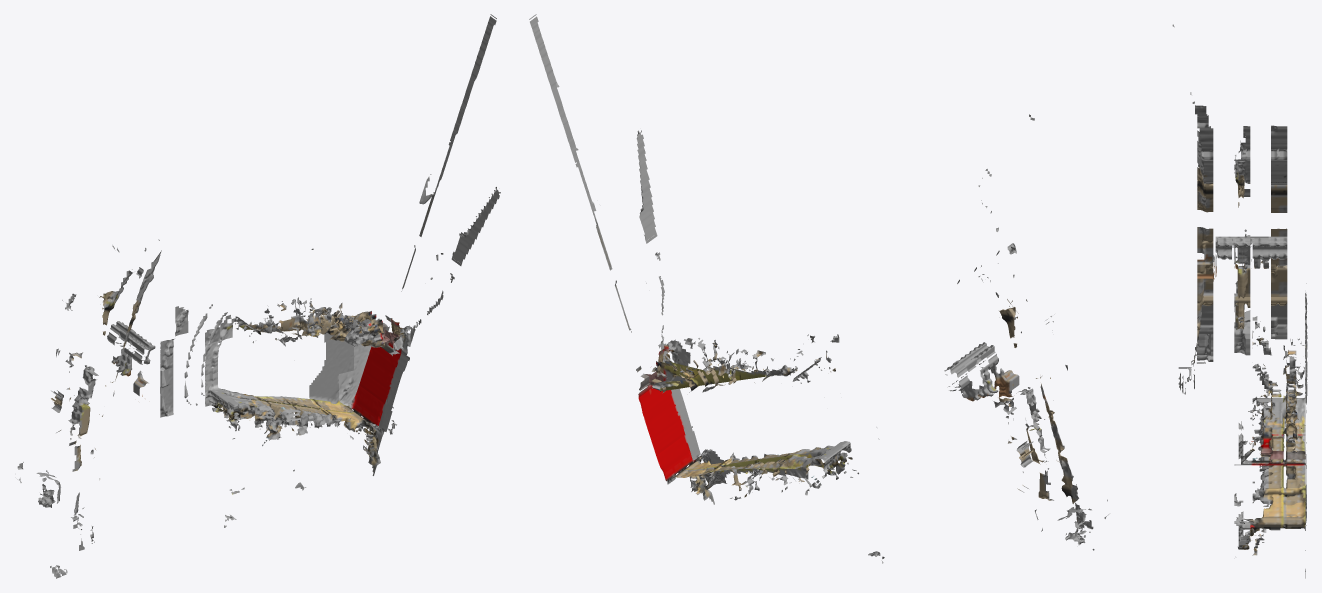
File: semantic_mesh.glb
3 views of the same model, side by side, from view 1: azimuth 30°, elevation 25°; view 2: azimuth 150°, elevation 25°; view 3: azimuth 270°, elevation 25° (orthographic). The views are drawn at different scales.
Visible parts, largest first — view 1: tmpe9ctn9fw.ply; view 2: tmpe9ctn9fw.ply; view 3: tmpe9ctn9fw.ply.
Part boxes in pixels (x1,y1,x2,y2): tmpe9ctn9fw.ply: [17, 14, 500, 578]; tmpe9ctn9fw.ply: [529, 14, 1108, 563]; tmpe9ctn9fw.ply: [1172, 24, 1307, 578].
Size of the model in its own units: 13.31 by 11.3 by 3.04.
